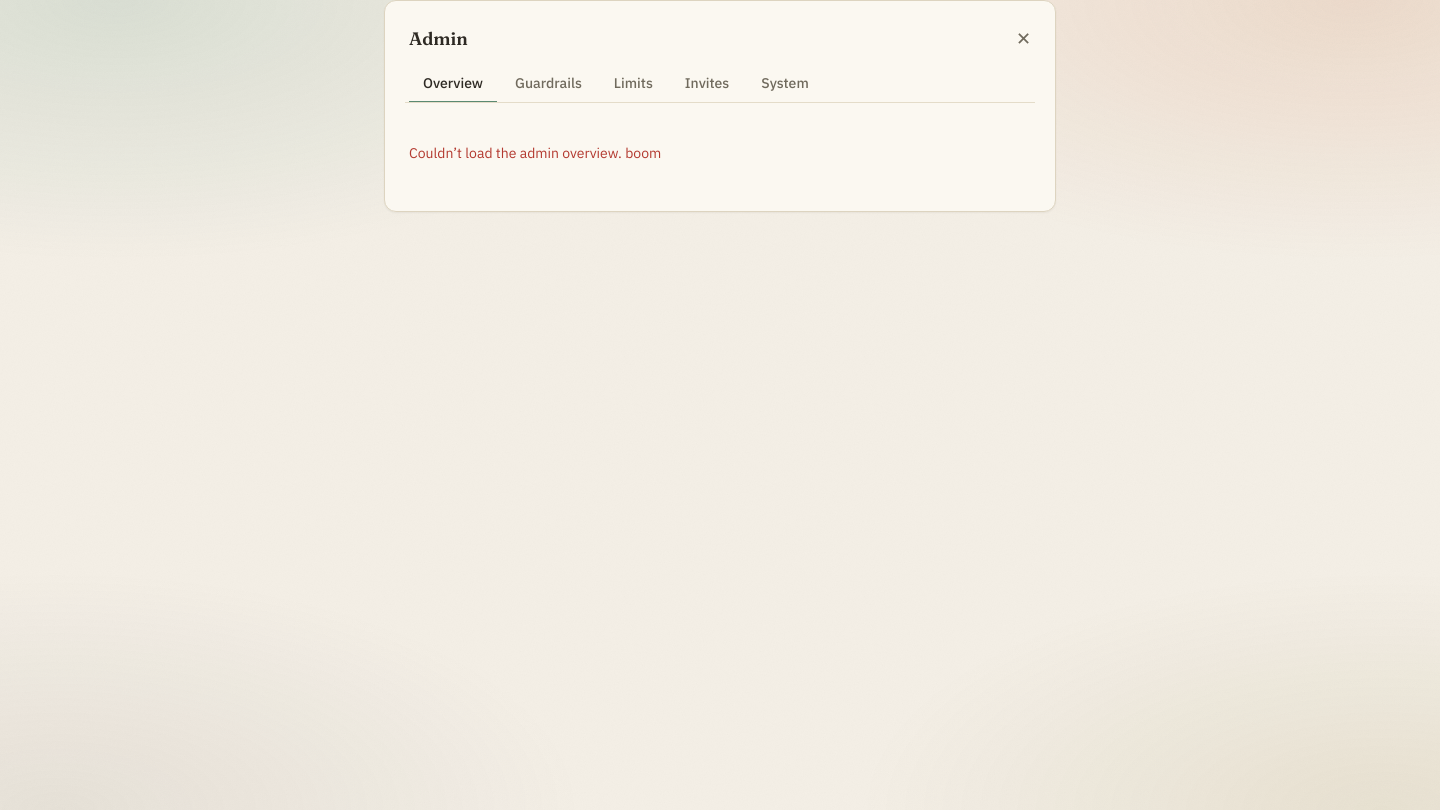
Test case: AdminPage › renders the Limits reference even when the admin overview fetch fails
Expected: the text "Couldn’t load the admin overview. boom" is shown, x1=409 y1=144 x2=661 y2=162
# …but the static Limits tab is unaffected.
Click the tab "Limits". click: (633, 84)
box: x1=600 y1=65 x2=667 y2=103
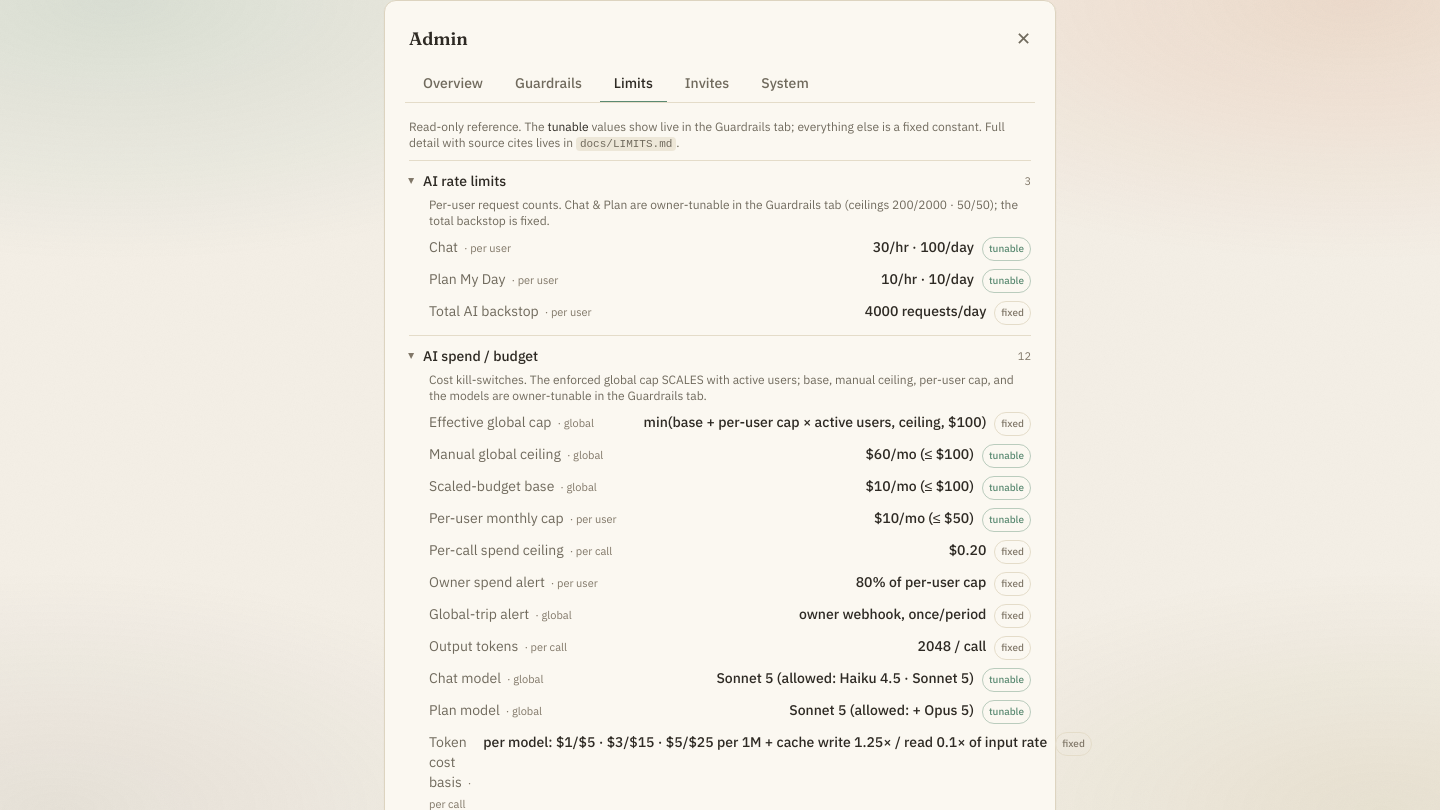
Expected: the text "AI rate limits" is shown, x1=423 y1=171 x2=506 y2=191
Expected: the text "Couldn’t load" is gone
